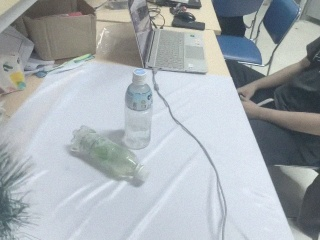bottle: (67, 125, 152, 187), (121, 69, 156, 151)
box: (21, 1, 98, 64)
mouse: (180, 1, 202, 10)
